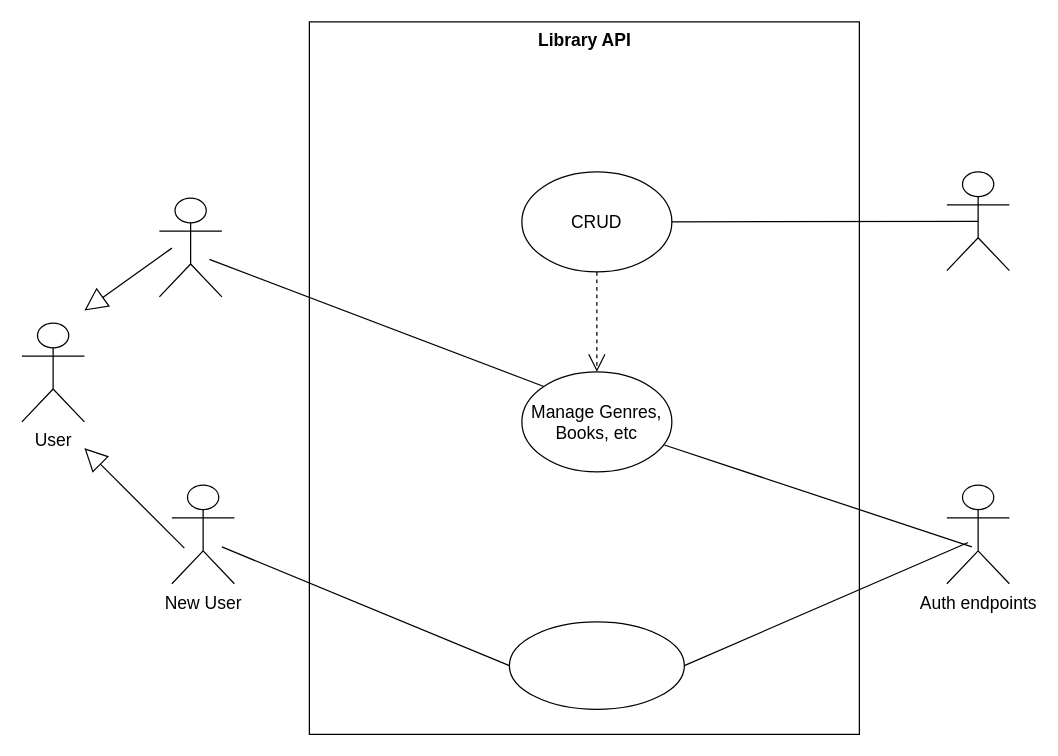
The diagram is 1058 pixels wide and 756 high, and some of its shapes have lost their labels. The shapes that lost their labels are listed below. From the top down, each one's box as (x1, y1, x2, y2) in pixels, then its label:
(946, 171, 1009, 271): API
(158, 197, 222, 297): Authenticated User
(508, 621, 684, 709): Login / Signup
